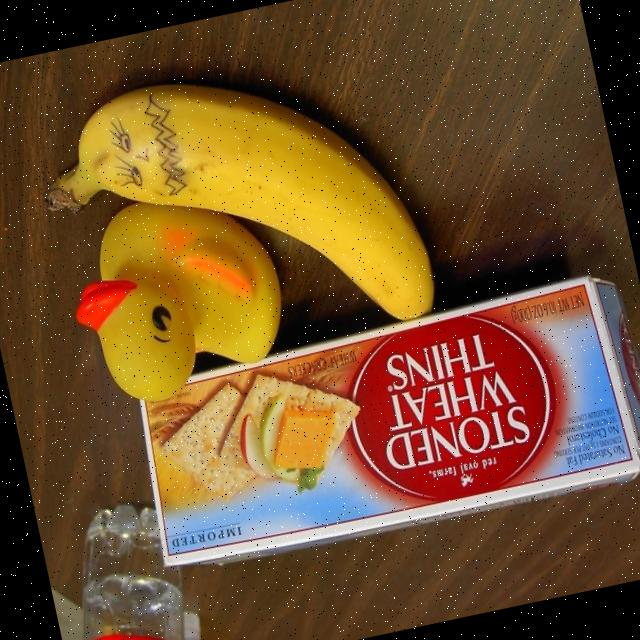banana: (44, 78, 435, 318)
